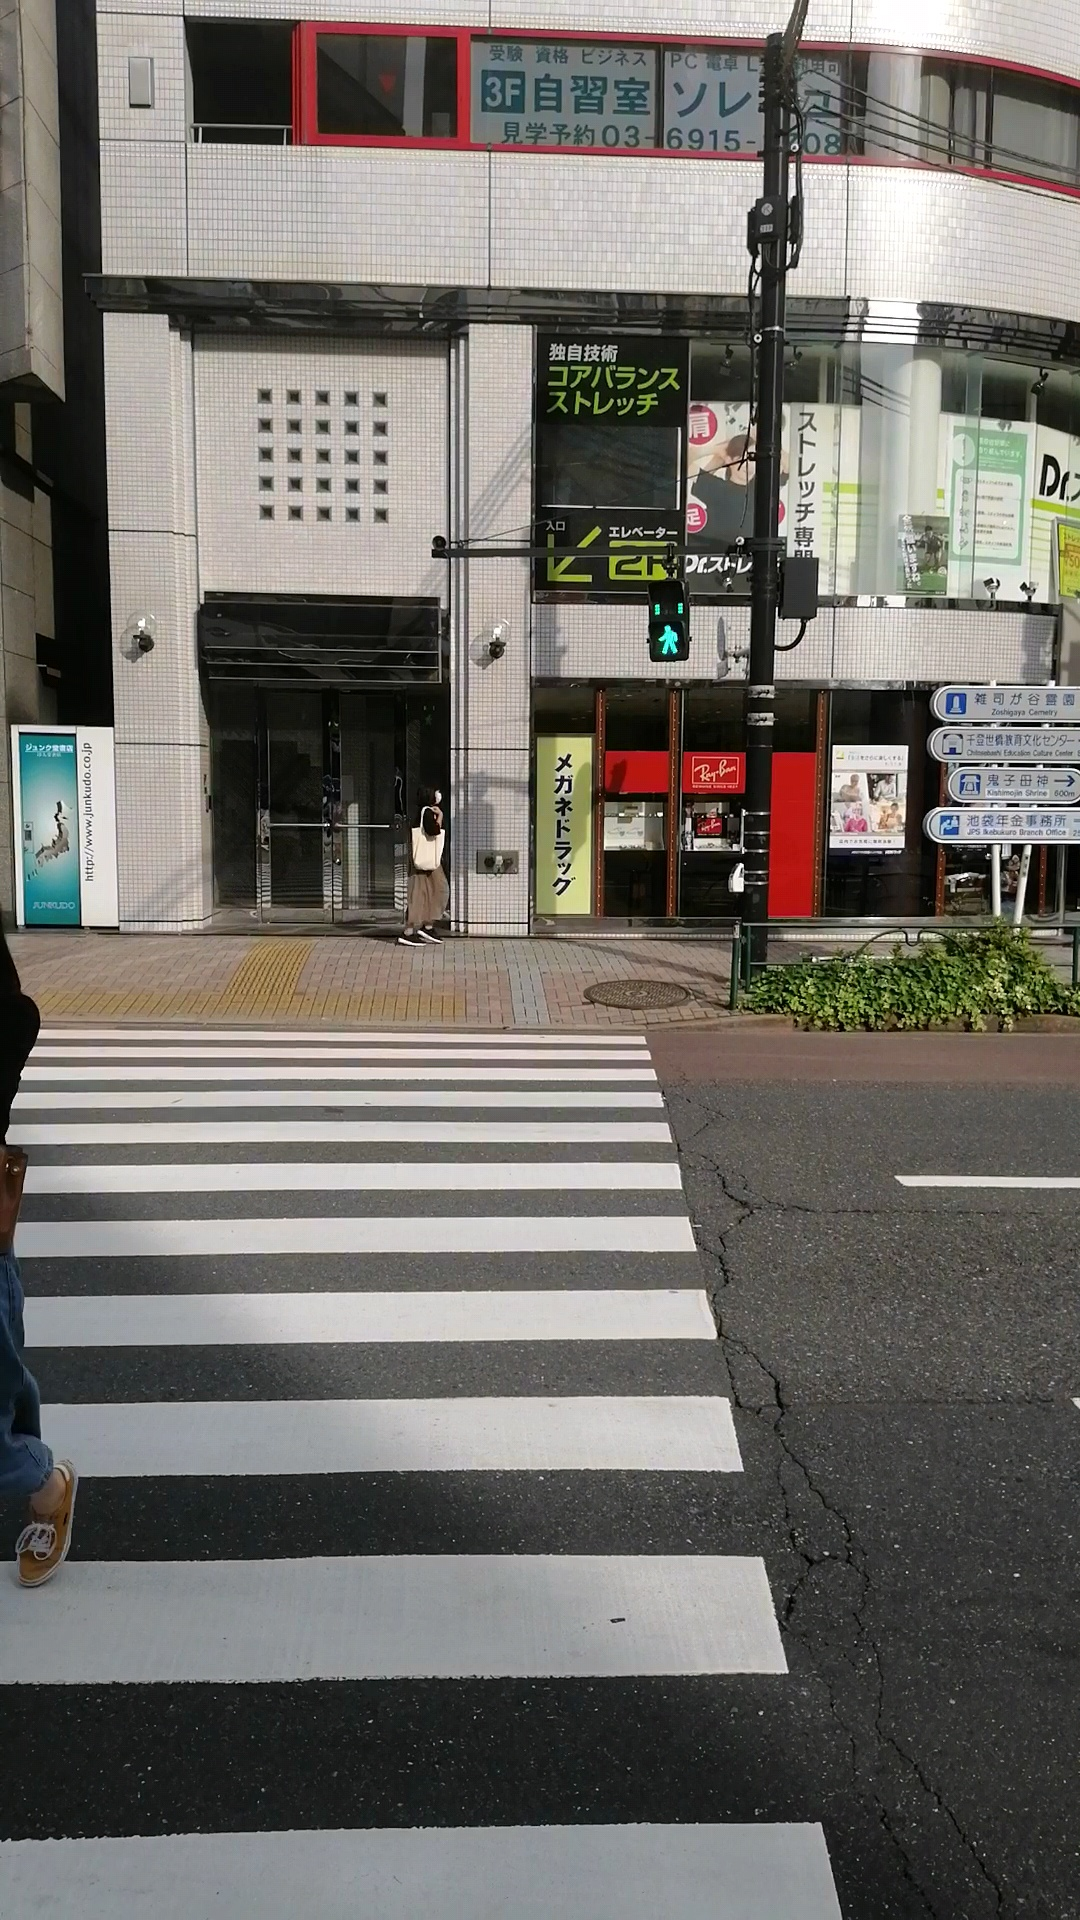green: (647, 579, 691, 661)
